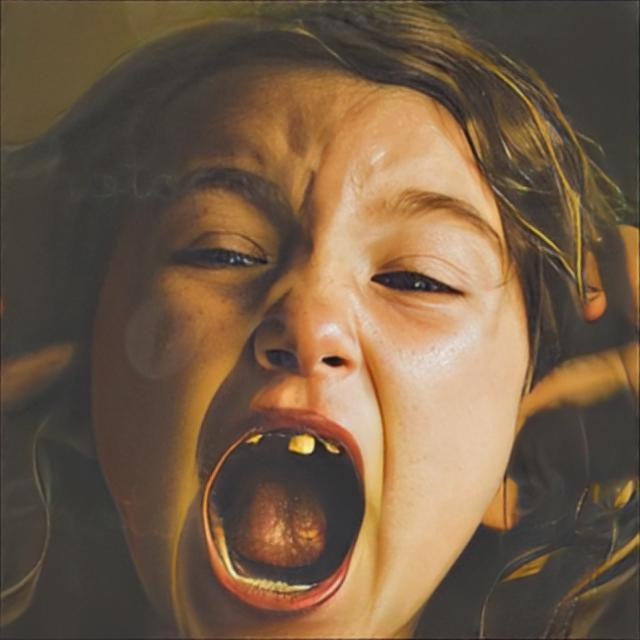anger: (92, 46, 530, 620)
